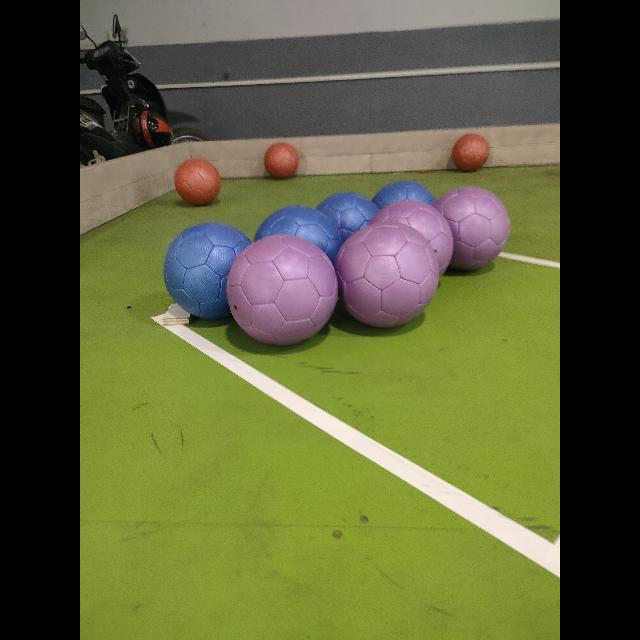B: (164, 222, 250, 318), (256, 205, 344, 282), (318, 192, 379, 258), (376, 180, 430, 233)
P: (226, 234, 338, 344), (336, 224, 438, 326), (368, 198, 452, 286), (434, 186, 510, 270)
R: (175, 158, 221, 204), (452, 134, 490, 170), (264, 142, 298, 178)
